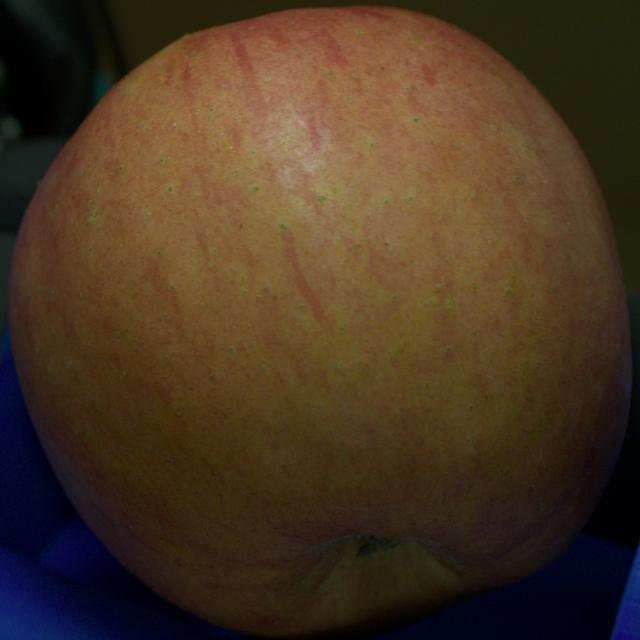apple: (8, 7, 631, 639)
